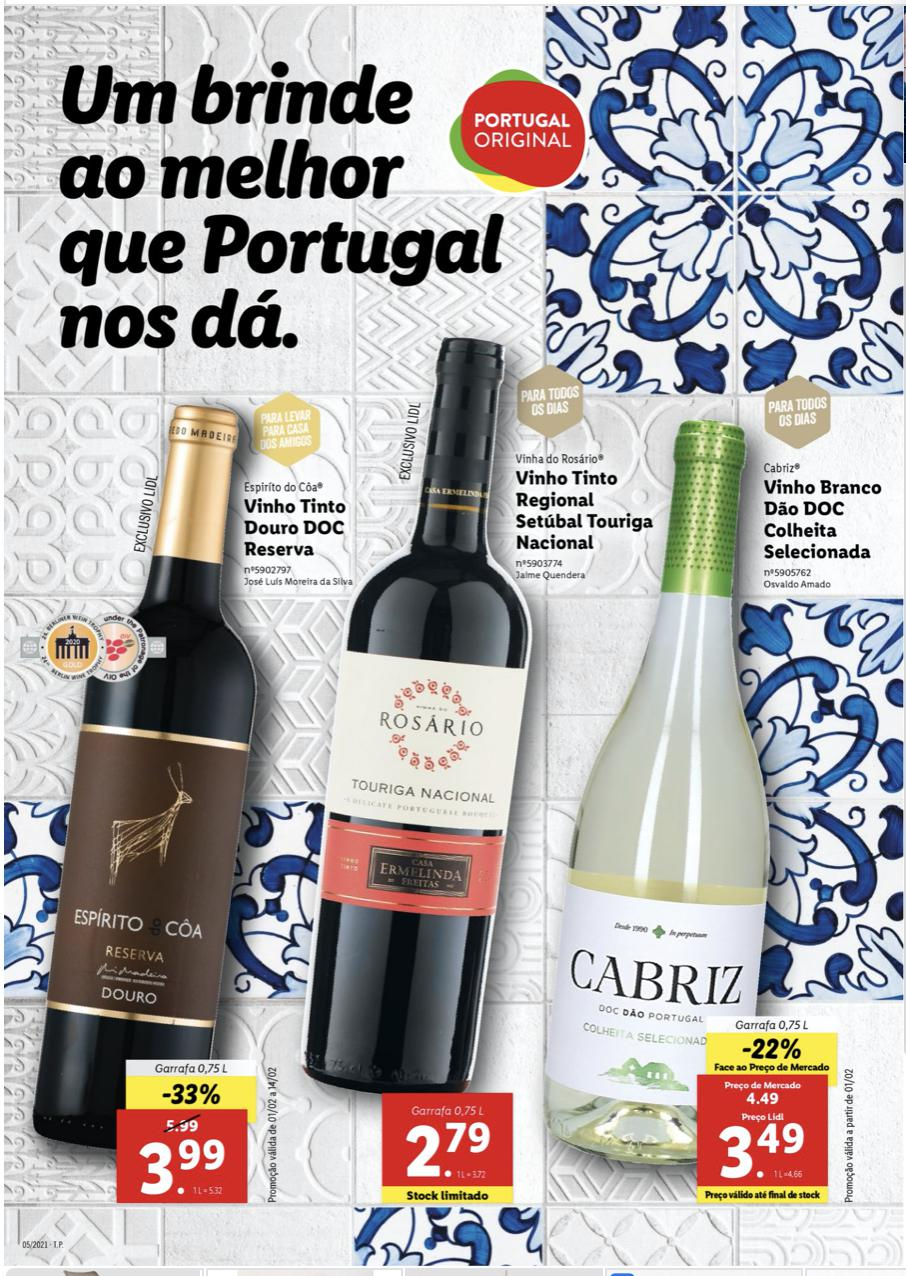name: (511, 464, 657, 550), (759, 477, 891, 567), (233, 494, 346, 558)
price: (405, 1116, 495, 1186), (718, 1120, 808, 1185), (137, 1137, 229, 1194)
product: (307, 329, 664, 1202), (546, 356, 898, 1210), (1, 372, 364, 1194)
promotion: (157, 1080, 227, 1108), (740, 1037, 806, 1064)
